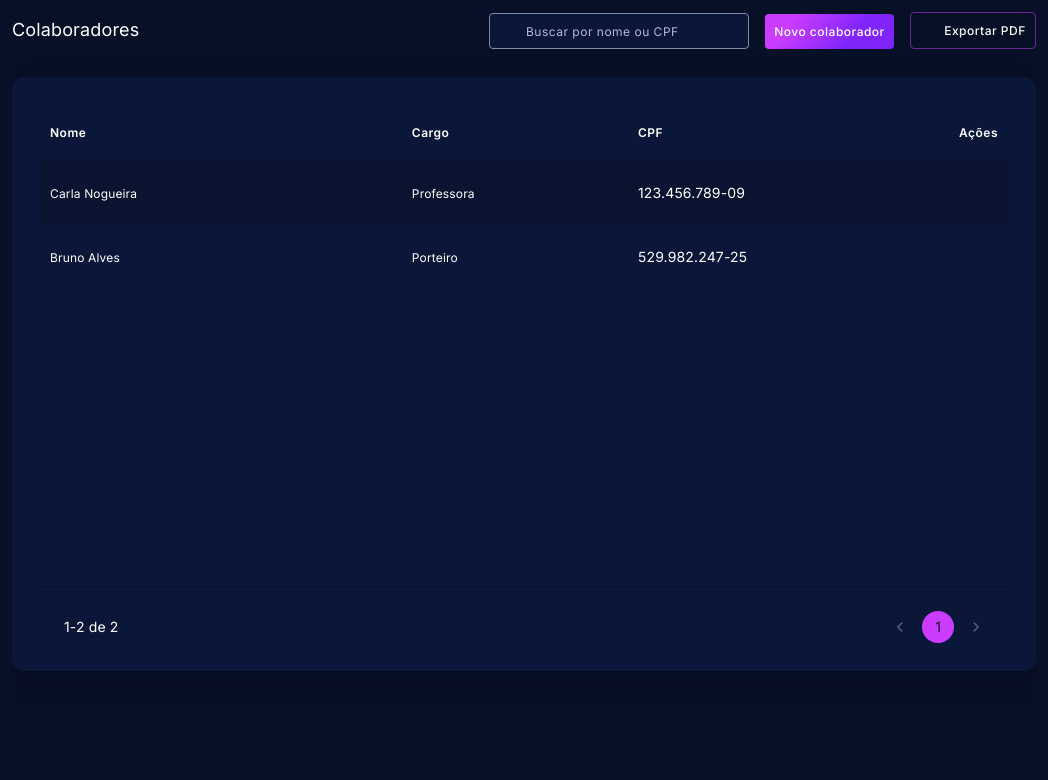
Test: Collaborators page › searches by name
This screenshot has width=1048, height=780.
Expected: the text "Carla Nogueira" is shown, [50,186,137,201]
Type "Nogueira" into the field named "buscar colaboradores" at (632, 31), box [526,22,738,40]
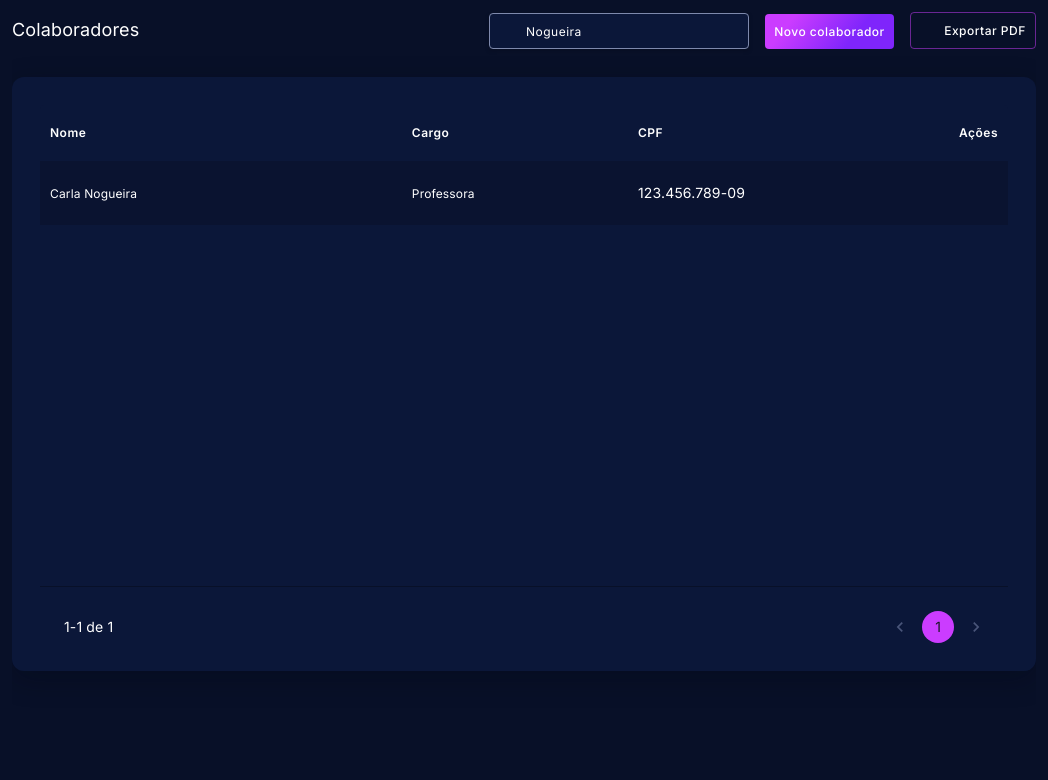
Expected: the text "Carla Nogueira" is shown, [50,186,137,201]
Result: the text "Bruno Alves" is gone
